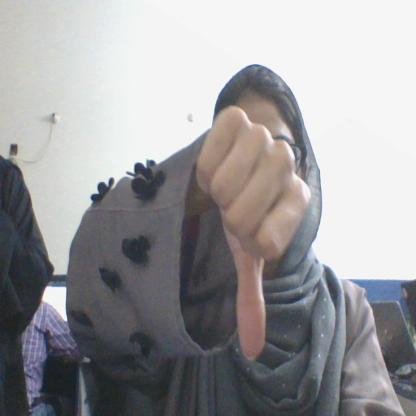thumbs-down: (202, 108, 310, 366)
